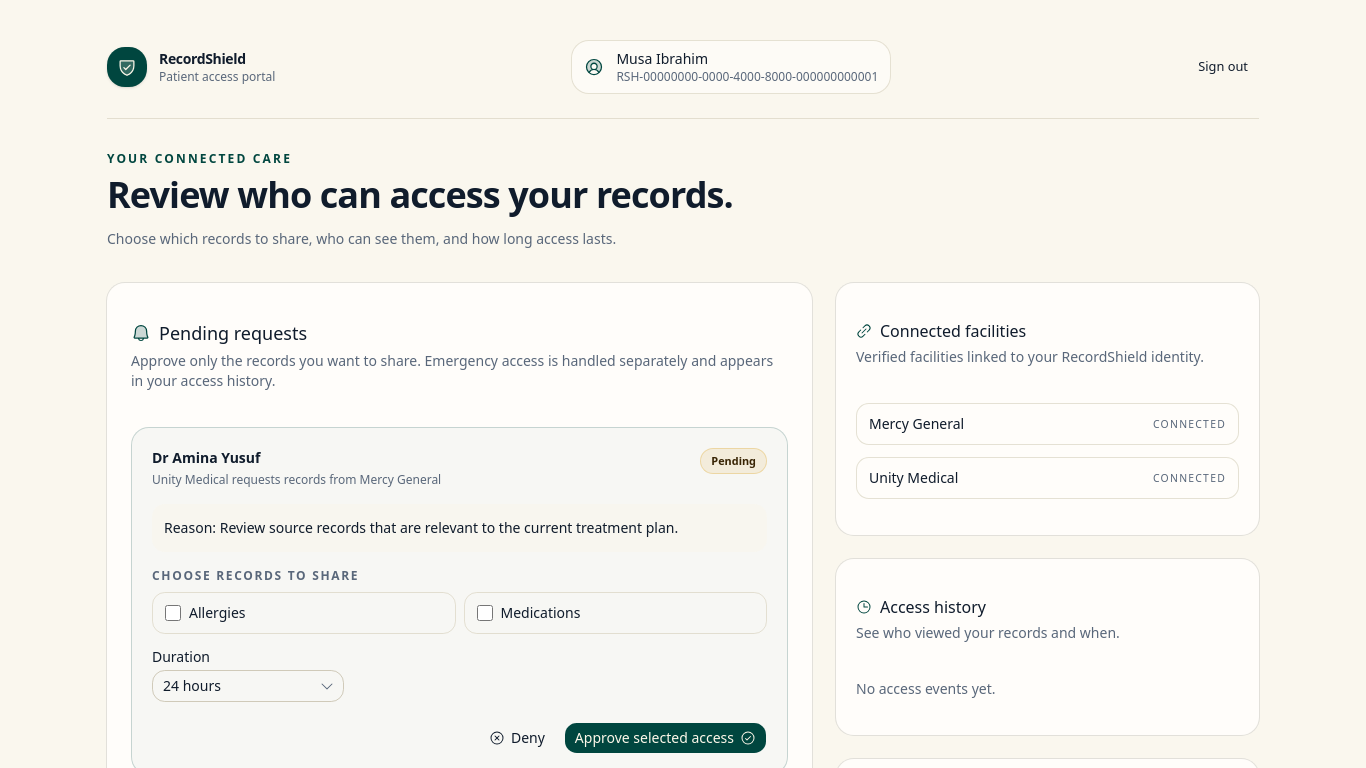
Test: lets the patient choose an exact domain and approve a time-limited grant
Check: the heading "Review who can access your records." is shown, box [107,170,733,219]
Step 1. Click the checkbox labelled "Allergies" → (173, 613), box [165,605,181,621]
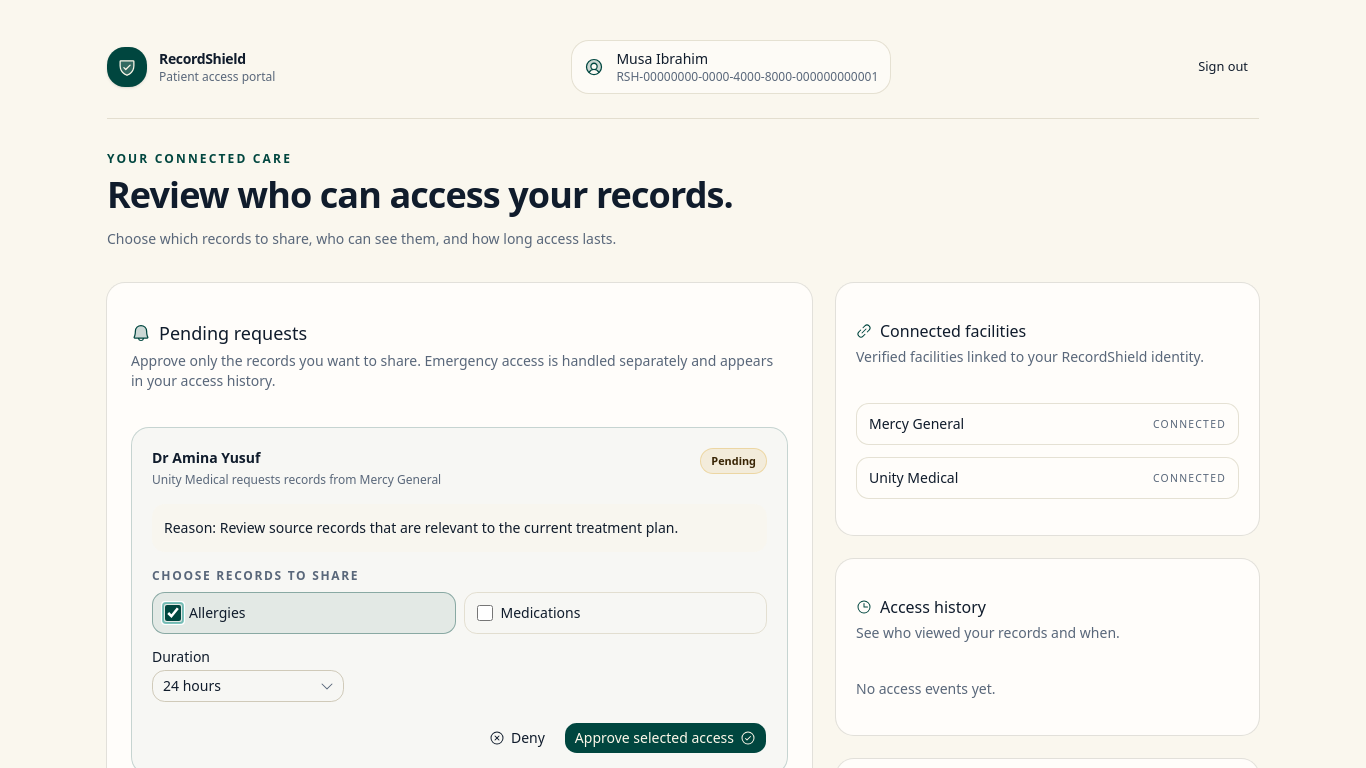
Step 2. Click the button "Approve selected access" → (665, 738), box [564,722,767,754]
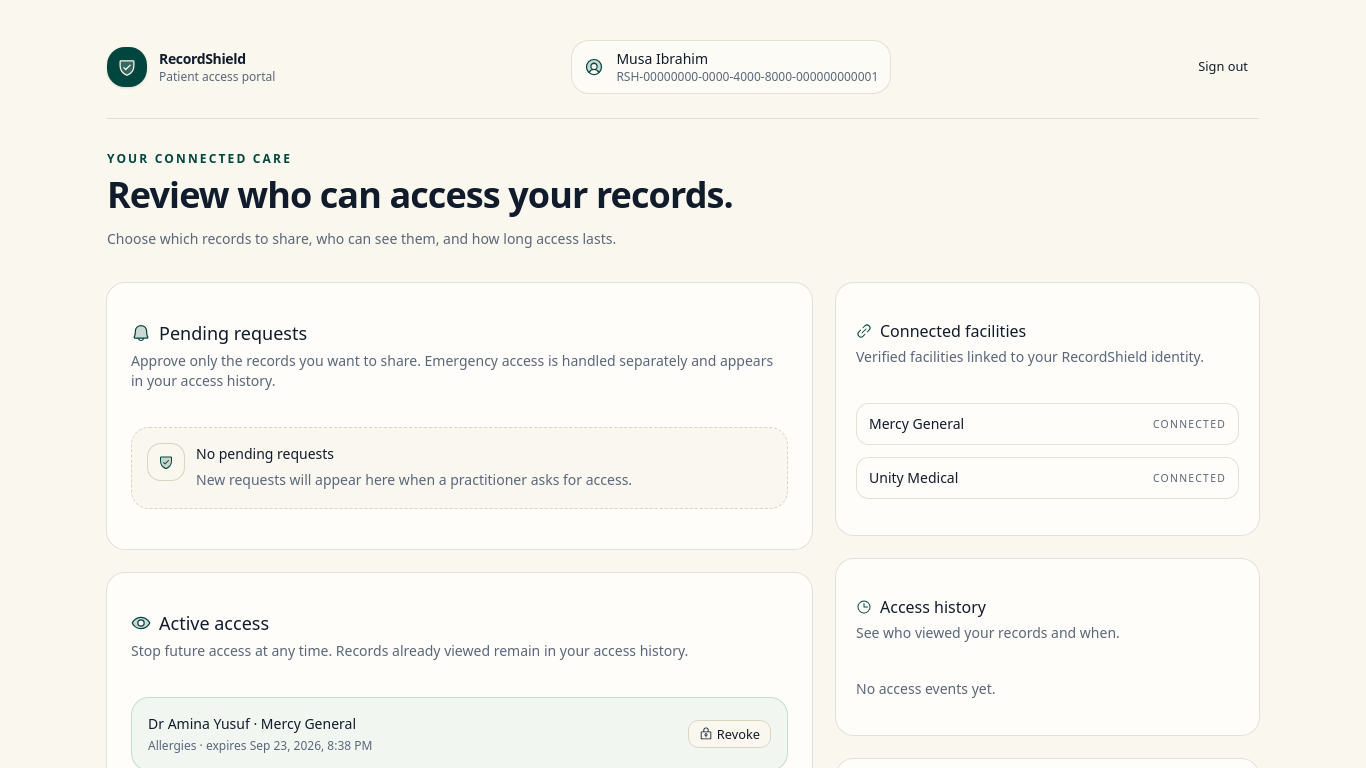
Check: the text "Dr Amina Yusuf · Mercy General" is shown, box [148,714,372,734]
Check: the text "Allergies · expires Sep 23, 2026, 8:38 PM" is shown, box [148,738,372,754]
